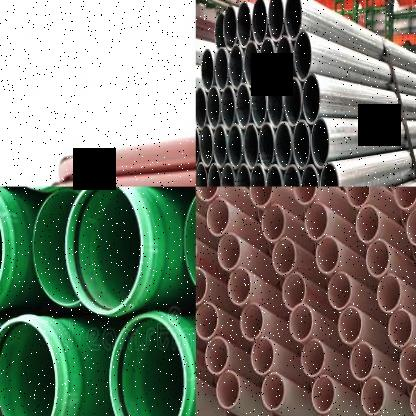pipe: (64, 187, 144, 316), (108, 314, 187, 416), (32, 189, 84, 306), (0, 318, 58, 416), (294, 28, 313, 84), (283, 76, 303, 127), (216, 370, 241, 409), (303, 72, 321, 126), (366, 239, 390, 279), (377, 274, 401, 314), (311, 117, 329, 170), (227, 267, 252, 305), (310, 375, 335, 413), (360, 377, 385, 415), (259, 36, 277, 88), (304, 201, 328, 240), (355, 205, 379, 244), (316, 234, 339, 274), (275, 118, 292, 172), (217, 233, 241, 271), (327, 272, 351, 310), (289, 303, 313, 341), (388, 309, 412, 347), (243, 40, 261, 90), (267, 80, 285, 130), (250, 80, 268, 130), (242, 122, 260, 172), (204, 338, 229, 374), (206, 198, 229, 237), (240, 302, 263, 341), (262, 204, 286, 241), (272, 238, 296, 275), (282, 272, 306, 309), (337, 306, 361, 343), (293, 119, 310, 171), (251, 337, 274, 375), (350, 342, 373, 380), (261, 373, 284, 411), (276, 35, 293, 86), (220, 84, 238, 132), (301, 339, 324, 376), (196, 301, 218, 339), (227, 122, 244, 171), (284, 0, 303, 43), (259, 121, 275, 172), (251, 0, 268, 48), (229, 42, 245, 92), (235, 82, 251, 131), (268, 0, 286, 43), (236, 0, 251, 50), (200, 47, 216, 93), (206, 85, 222, 131), (215, 47, 230, 94), (398, 343, 416, 382), (224, 3, 238, 53), (199, 124, 214, 170), (213, 123, 227, 170), (393, 186, 416, 211), (319, 161, 340, 187), (283, 162, 302, 187), (301, 162, 320, 187), (215, 10, 226, 52), (249, 187, 272, 207), (346, 187, 369, 207), (196, 86, 206, 130), (196, 266, 207, 305), (206, 162, 222, 187), (220, 162, 236, 187), (250, 162, 266, 187), (265, 165, 283, 187), (235, 164, 252, 187), (294, 187, 317, 204), (406, 207, 416, 245), (196, 186, 219, 202), (196, 162, 208, 187), (409, 380, 416, 416), (196, 124, 201, 168)
